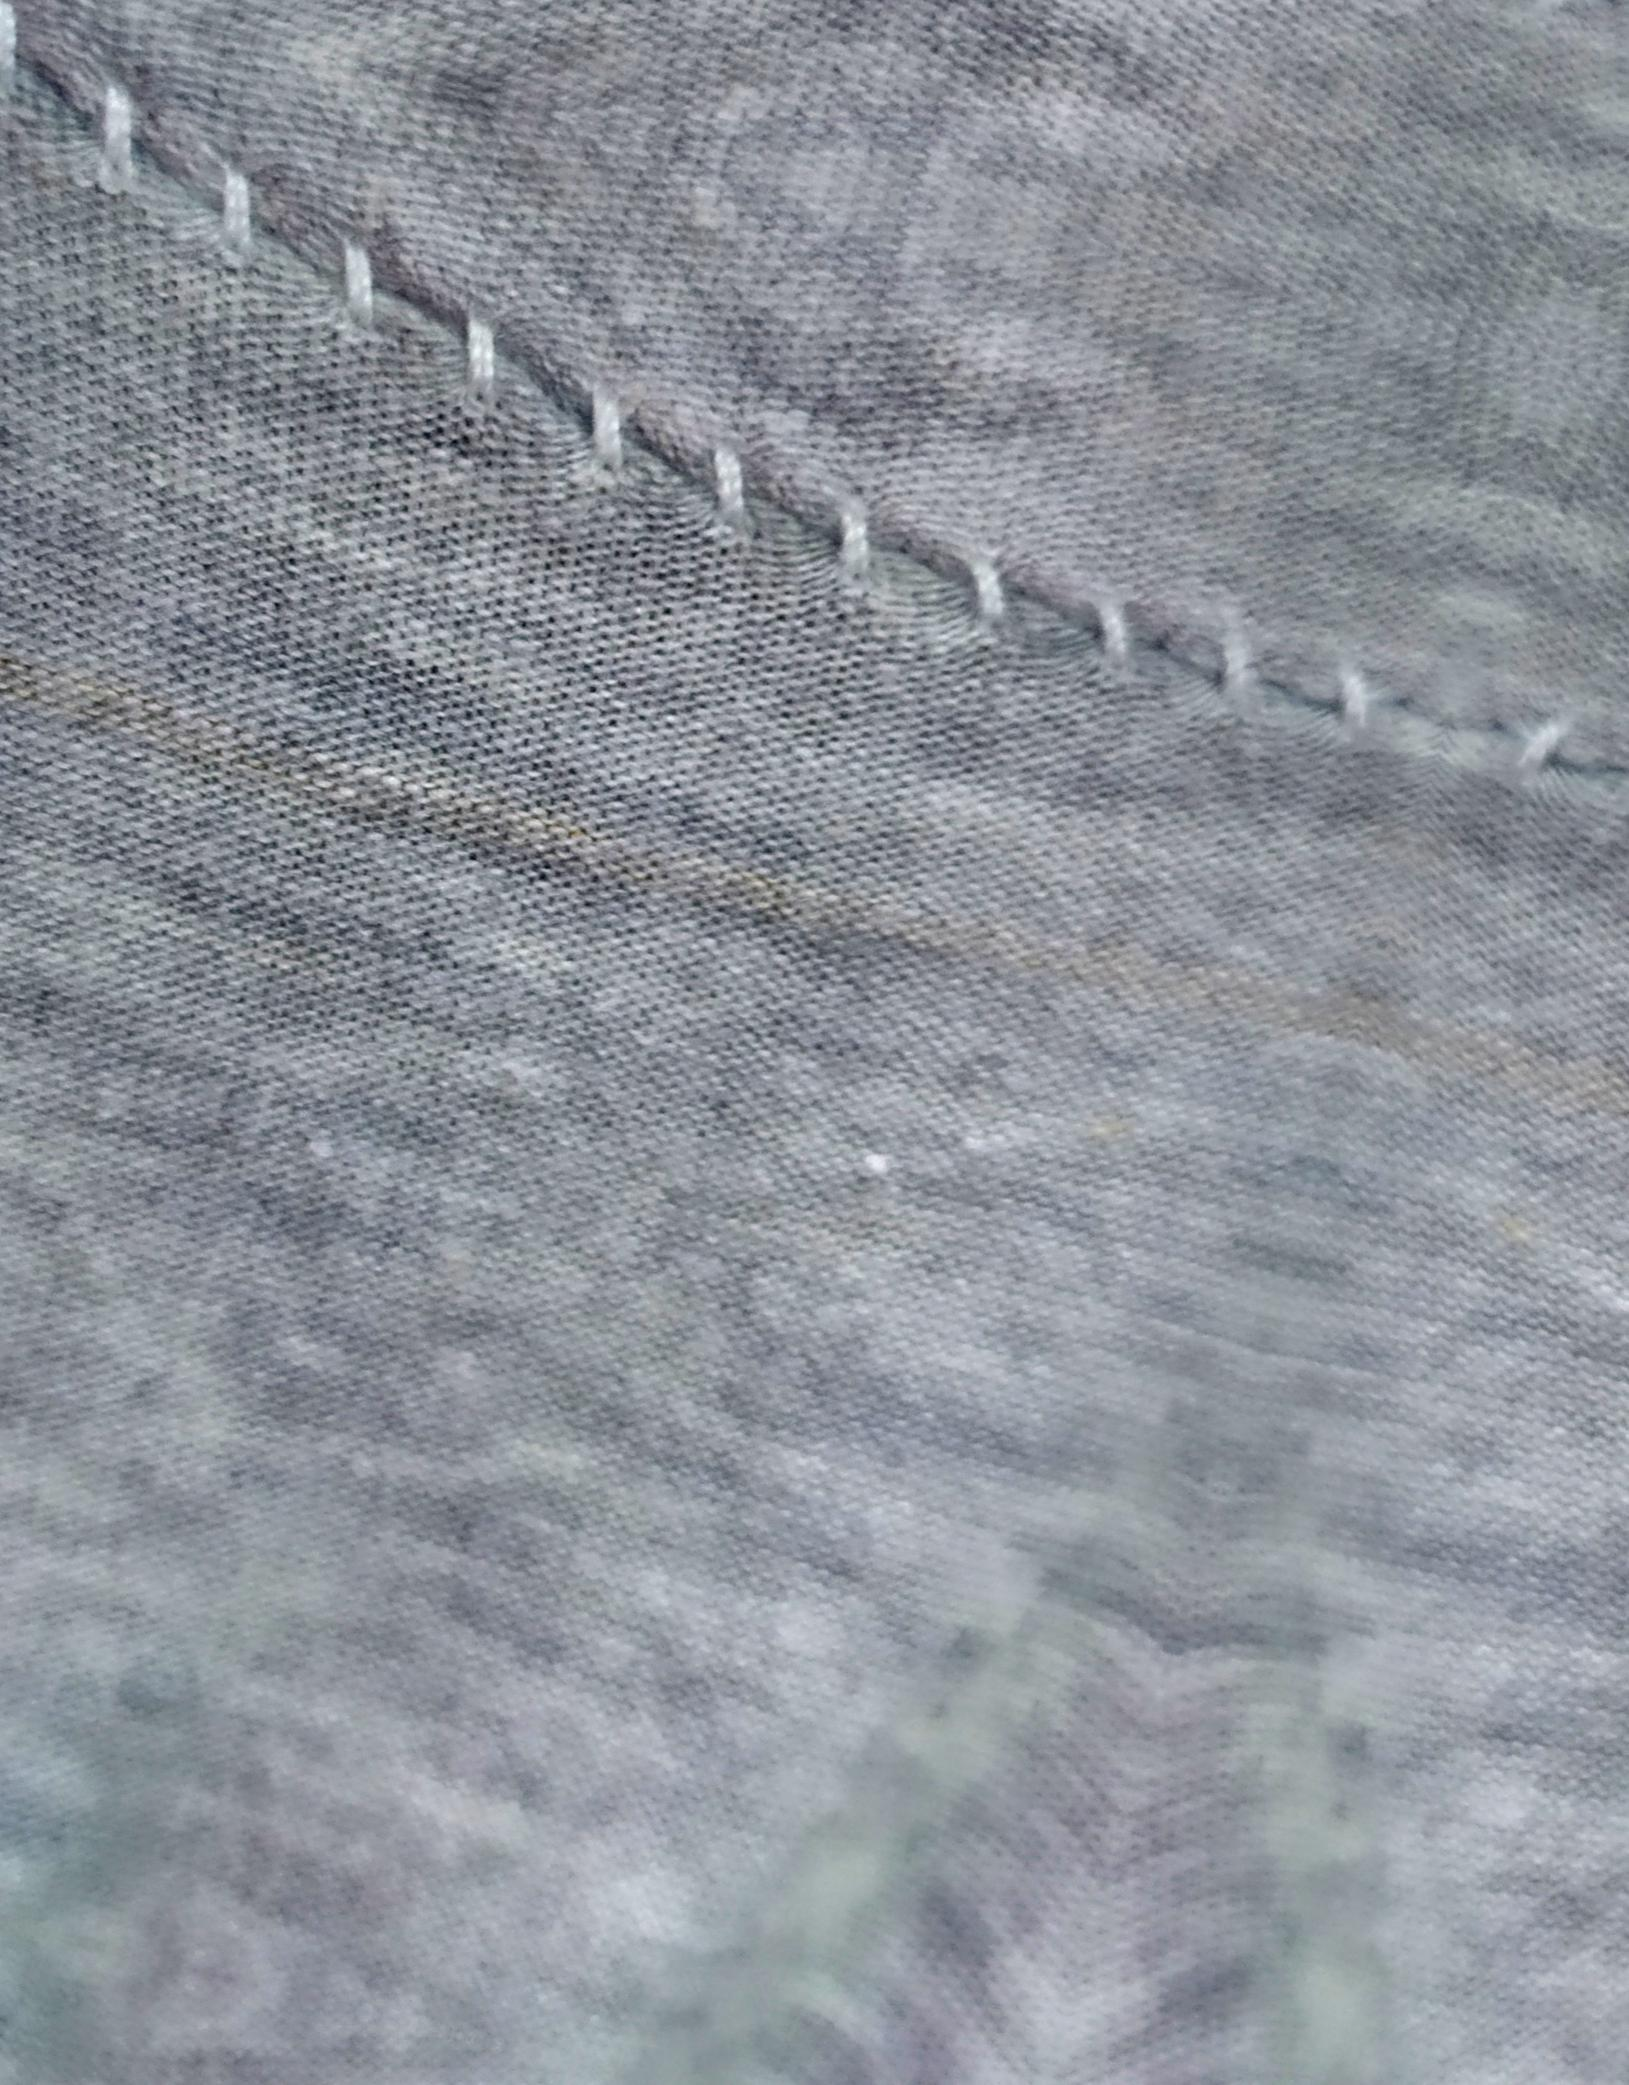slub: (7, 27, 1614, 822)
